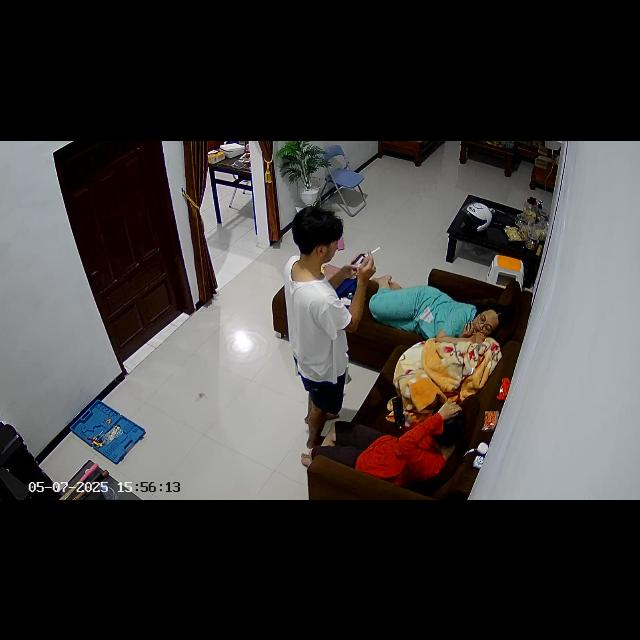rokok: (364, 245, 381, 257)
